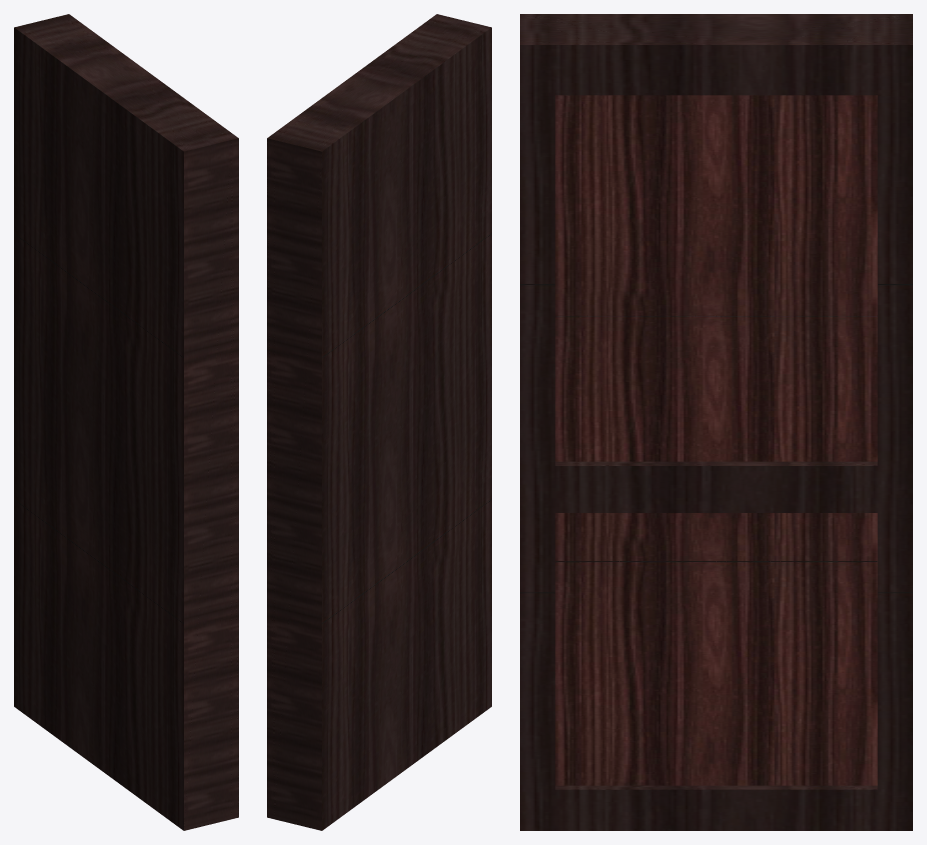
File: Wooden Door.FBX
3 renders of one model, left to right at view 1: azimuth 30°, elevation 25°; view 2: azimuth 150°, elevation 25°; view 3: azimuth 270°, elevation 25°, orthographic. The views are drawn at different scales.
Visible parts, largest first — view 1: Wooden Door; view 2: Wooden Door; view 3: Wooden Door.
Part boxes in pixels (x1=…): Wooden Door: x1=14, y1=14, x2=238, y2=830; Wooden Door: x1=267, y1=14, x2=491, y2=830; Wooden Door: x1=520, y1=14, x2=912, y2=830.
Size of the model in its own units: 11.5 by 61.5 by 136.
Materials: 2 (2 with a texture image).
